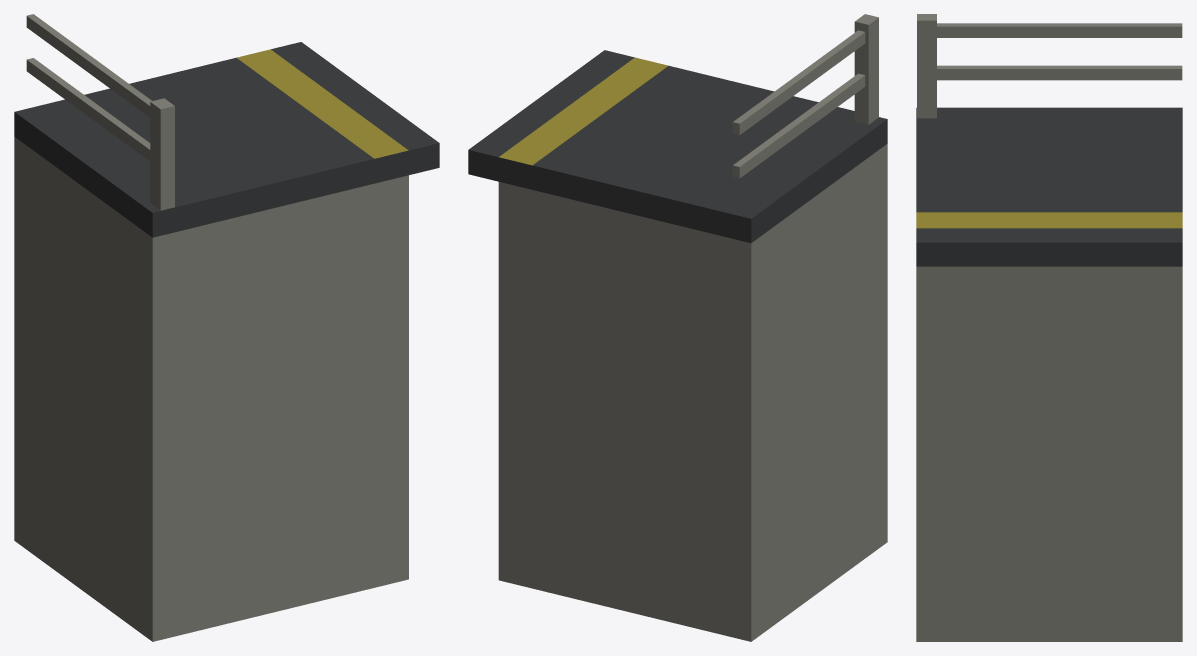
File: platform.fbx
The picture shows the model from 3 angles, left to right: view 1: azimuth 30°, elevation 25°; view 2: azimuth 150°, elevation 25°; view 3: azimuth 270°, elevation 25°; orthographic projection. The views are drawn at different scales.
Parts seen in each view (by area): view 1: Platform; view 2: Platform; view 3: Platform.
Part boxes in pixels (left/top/right/bottom): Platform: left=14, top=14, right=439, bottom=641; Platform: left=468, top=14, right=887, bottom=641; Platform: left=916, top=14, right=1182, bottom=641.
Size of the model in its own units: 2.4 by 4.23 by 2.
